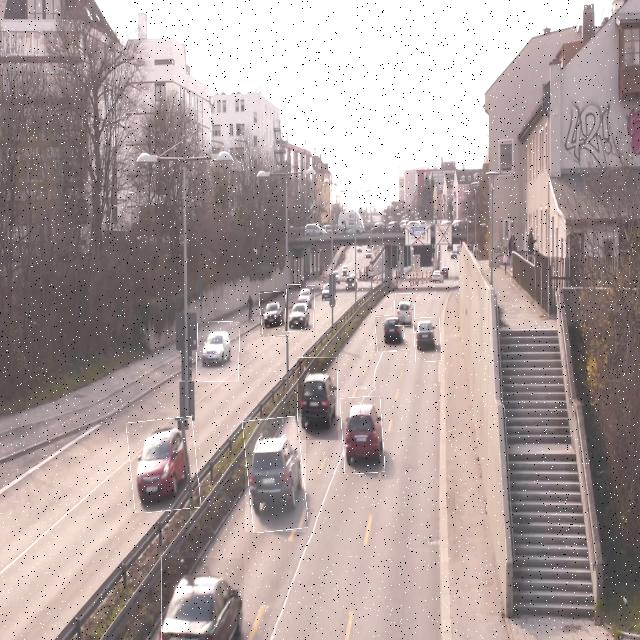Car: (245, 417, 306, 532), (161, 558, 244, 640), (129, 418, 199, 511), (297, 357, 338, 440), (341, 397, 384, 473), (197, 322, 239, 382), (286, 285, 315, 332), (260, 291, 288, 337), (414, 318, 441, 362), (375, 316, 405, 352), (394, 294, 415, 326)
